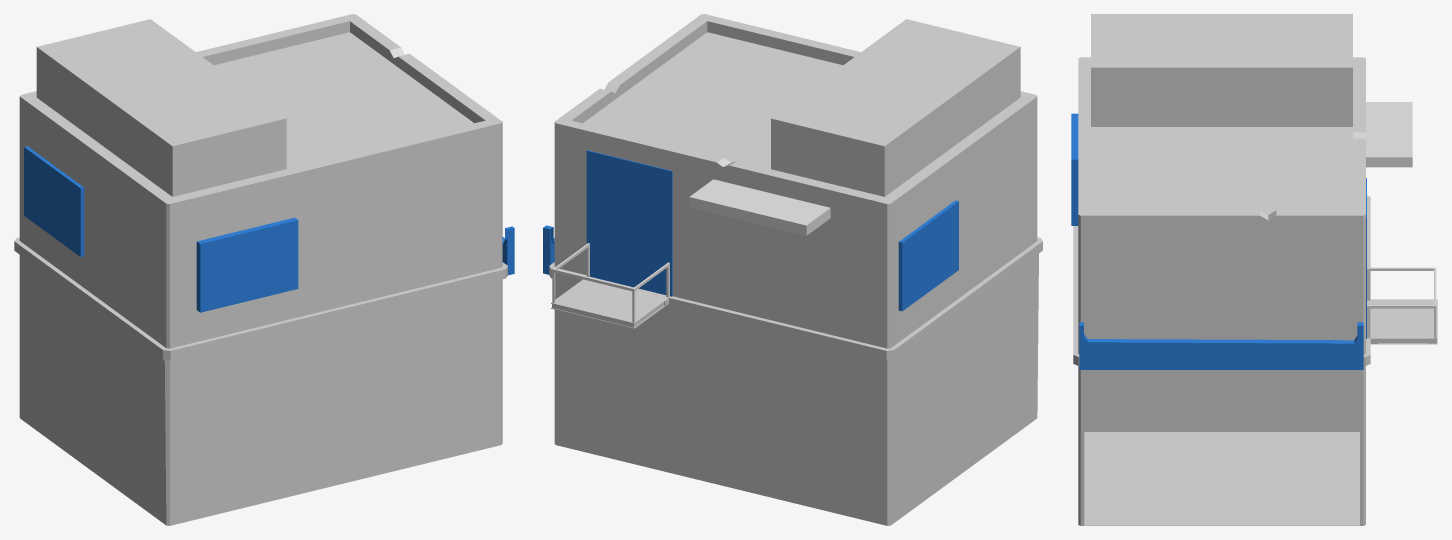
Rendered from Telawi 02.fbx.
3 views of the same model, side by side, from view 1: azimuth 30°, elevation 25°; view 2: azimuth 150°, elevation 25°; view 3: azimuth 270°, elevation 25° (orthographic). The views are drawn at different scales.
Parts seen in each view (by area): view 1: Main_Building_Cube, Tingkap_01.001, Tingkap_02; view 2: Main_Building_Cube, Tingkap_02.001, Tingkap_02, Bumbung_01, Platform_01; view 3: Main_Building_Cube, Tingkap_01.002, Bumbung_01, Platform_01, Tingkap_01.001.
Part boxes in pixels (<box>): Main_Building_Cube: <box>14,14,507,525</box>; Tingkap_01.001: <box>196,217,298,312</box>; Tingkap_02: <box>24,146,84,256</box>; Main_Building_Cube: <box>549,14,1042,525</box>; Tingkap_02.001: <box>586,150,672,296</box>; Tingkap_02: <box>898,200,958,311</box>; Bumbung_01: <box>689,179,830,235</box>; Platform_01: <box>551,279,668,328</box>; Main_Building_Cube: <box>1073,14,1370,525</box>; Tingkap_01.002: <box>1079,322,1363,369</box>; Bumbung_01: <box>1366,102,1412,167</box>; Platform_01: <box>1370,299,1437,344</box>; Tingkap_01.001: <box>1071,113,1078,225</box>.
Size of the model in its own units: 4102 by 4149 by 3833.
